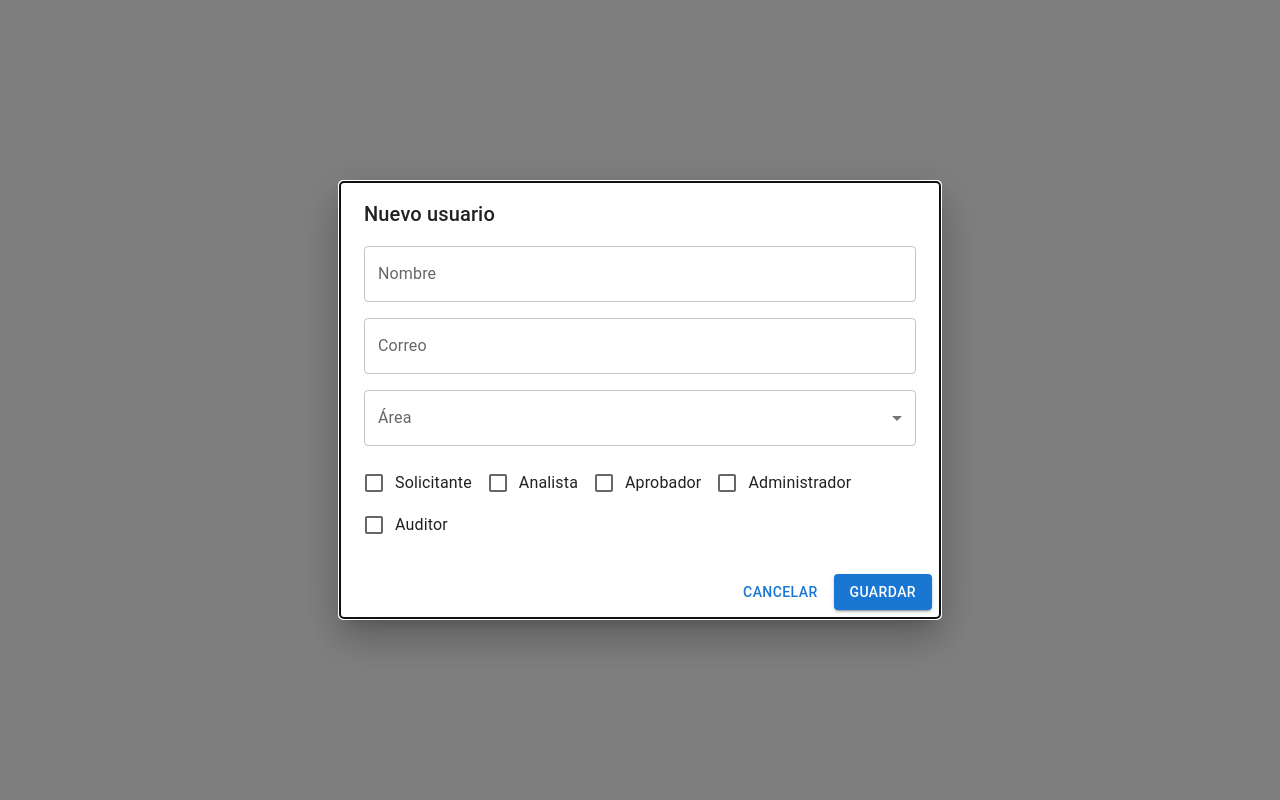
Scenario: UserDialog exige al menos un rol
Step 1. Type "Luis" into the field labelled "Nombre" → x=640, y=274, box [364,246,916,302]
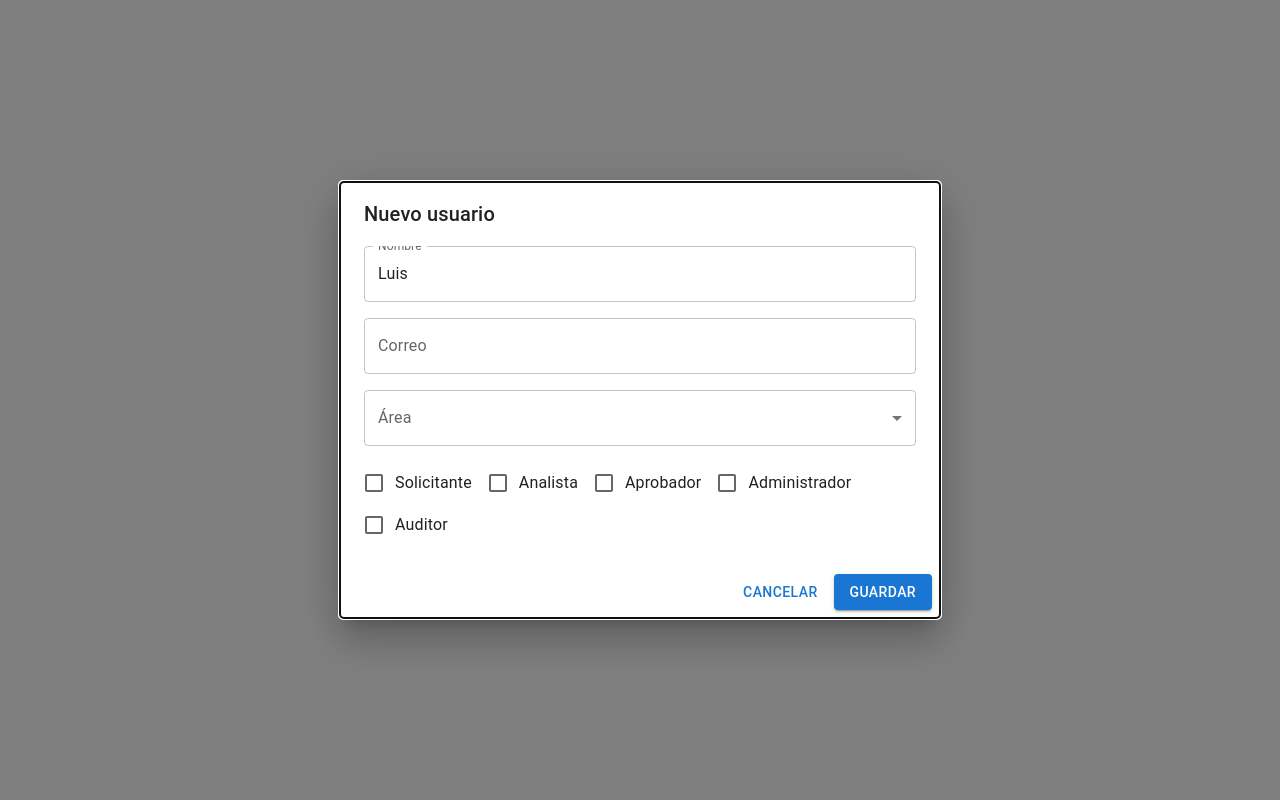
Step 2. Type "luis@test.local" into the field labelled "Correo" → x=640, y=346, box [364,318,916,374]
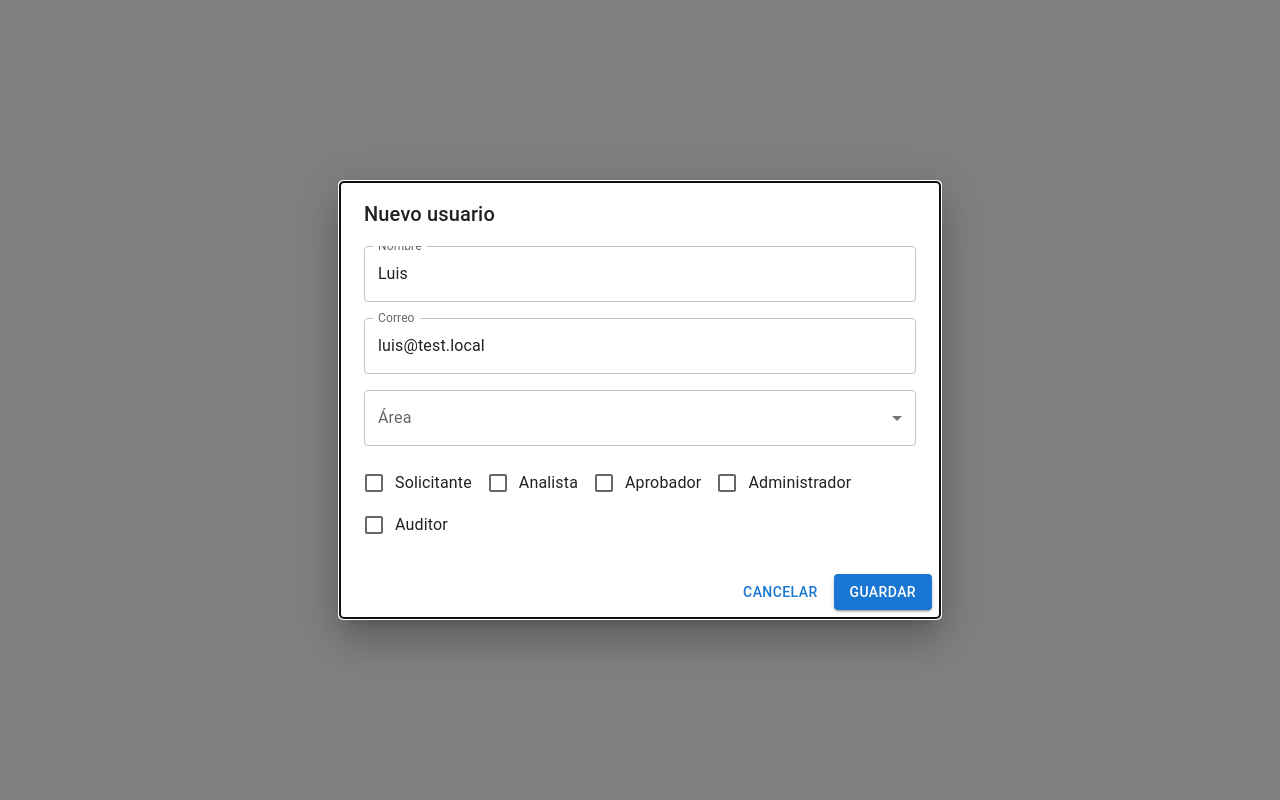
Step 3. Click the button "Guardar" → x=883, y=592, box [834,574,932,610]
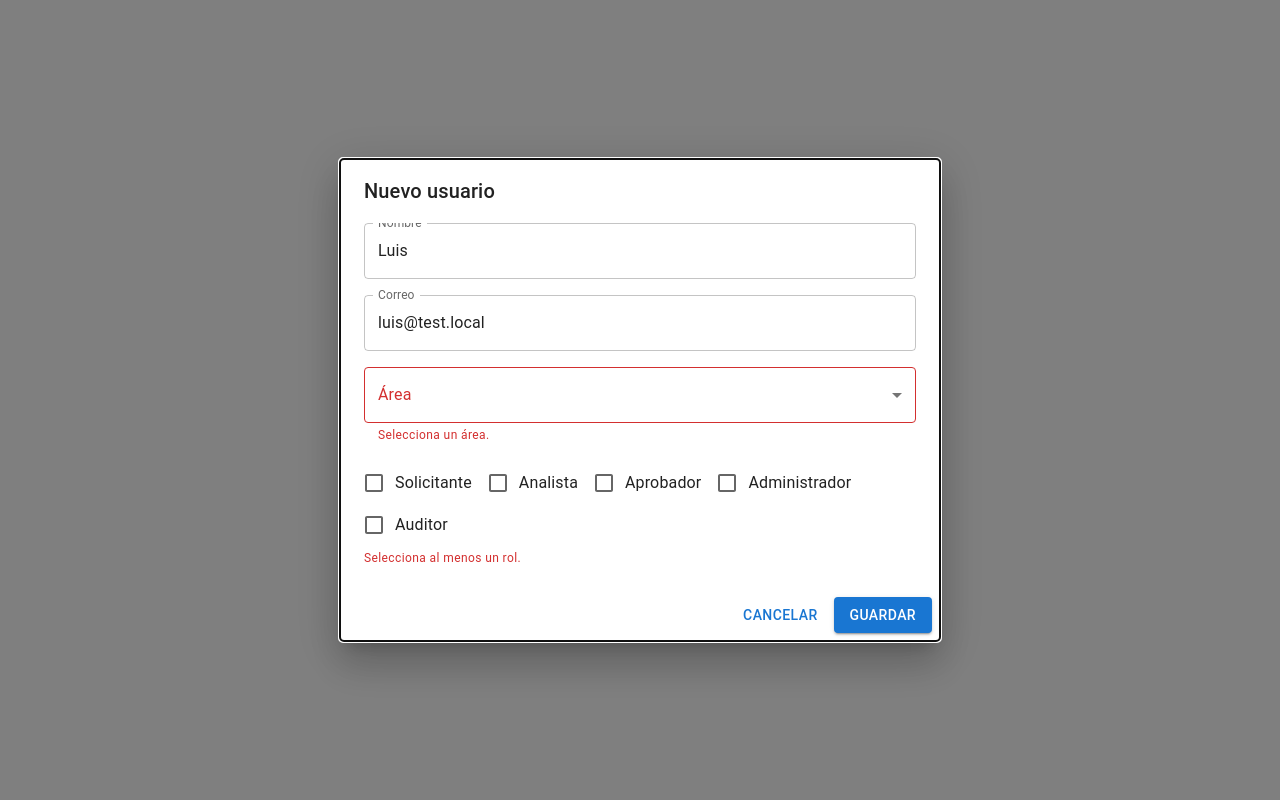
Result: the text "Selecciona al menos un rol." is shown at [364,551,521,565]
